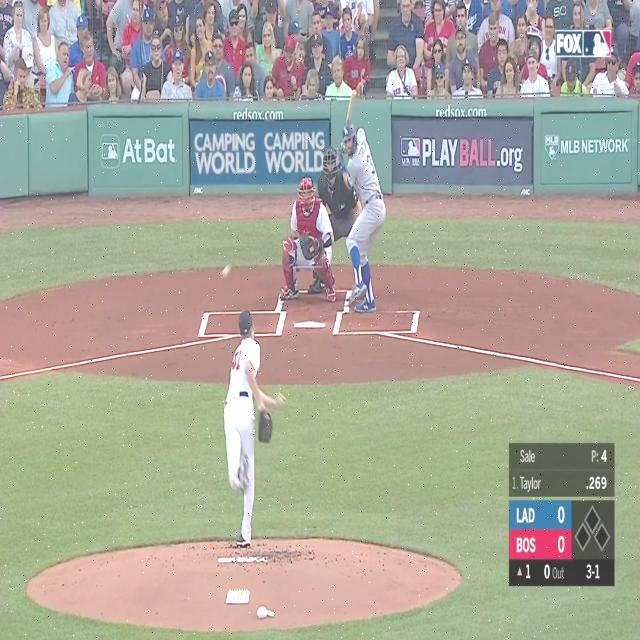baseball: (221, 263, 231, 279)
